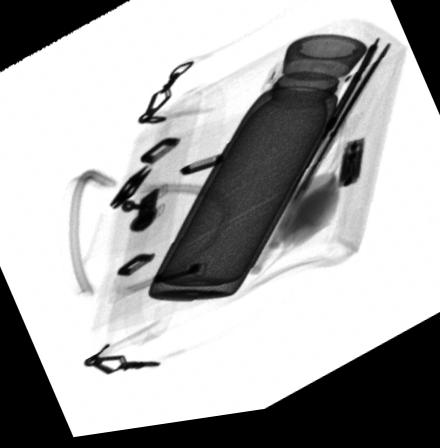Scissors: (251, 55, 390, 285)
